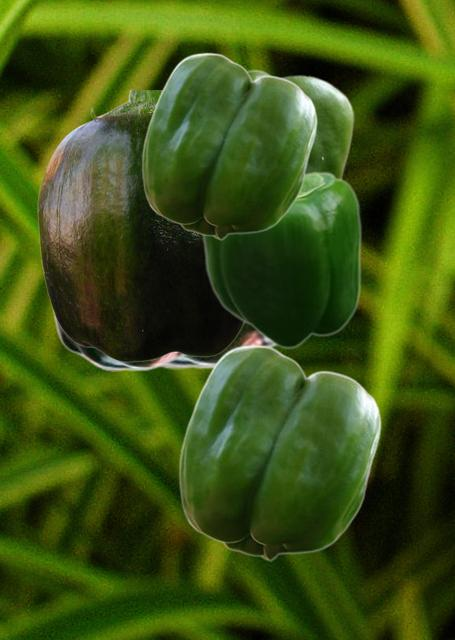bell_pepper: (37, 90, 244, 361), (178, 344, 380, 560), (141, 52, 316, 239), (201, 169, 361, 349), (248, 69, 354, 177), (51, 311, 186, 370), (162, 324, 276, 368)
